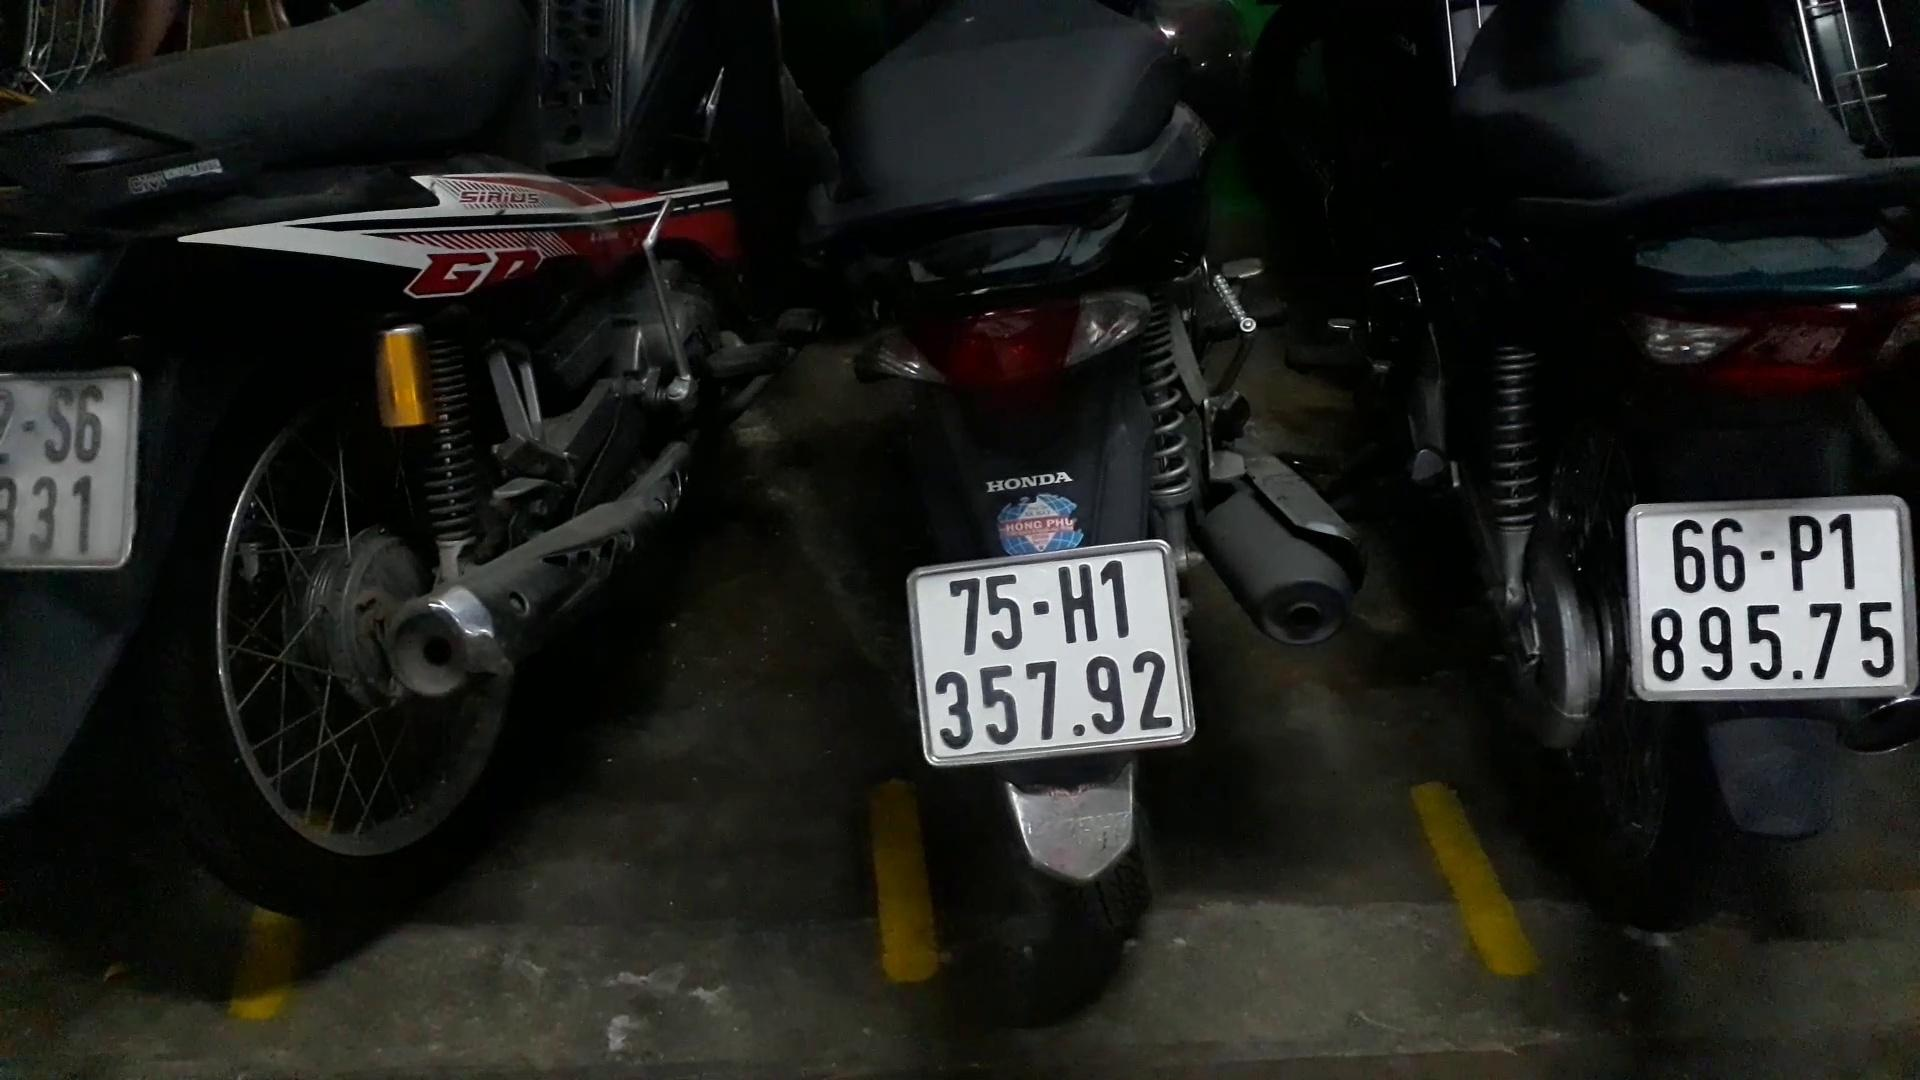numplate: (1603, 487, 1920, 720), (901, 530, 1190, 769), (0, 367, 170, 573)
